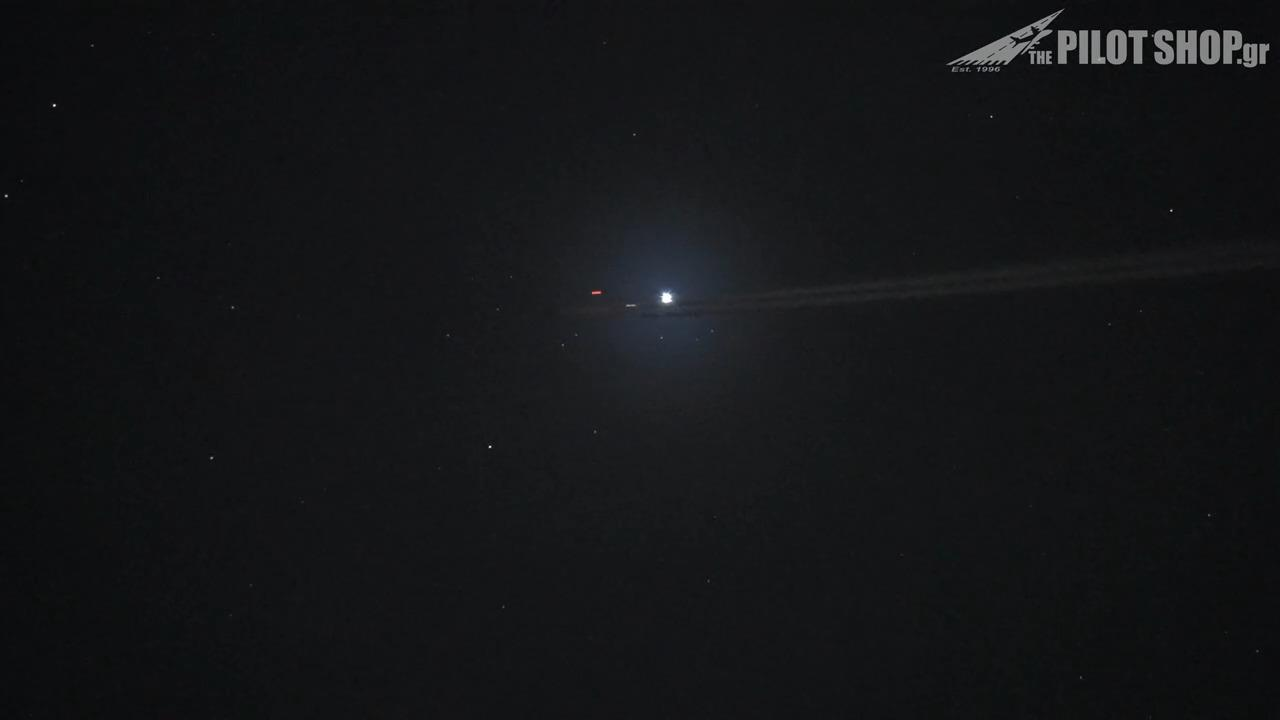Plane: (549, 284, 736, 336)
